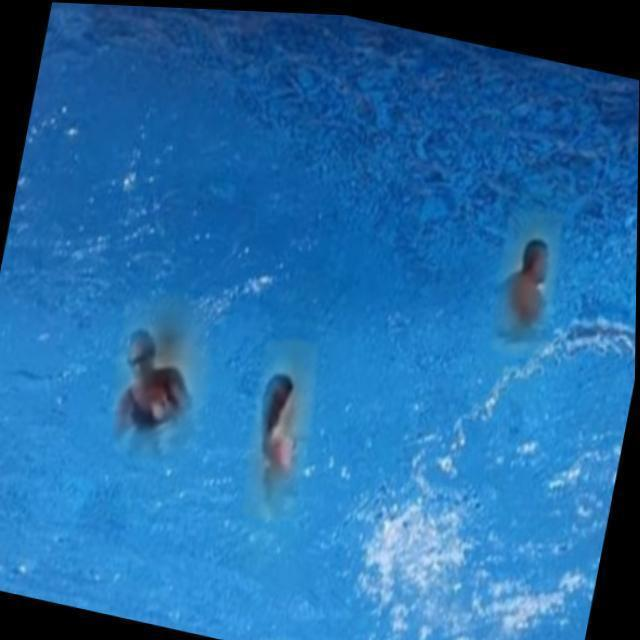swimming: (230, 358, 331, 527), (109, 322, 211, 456), (496, 226, 573, 379)
